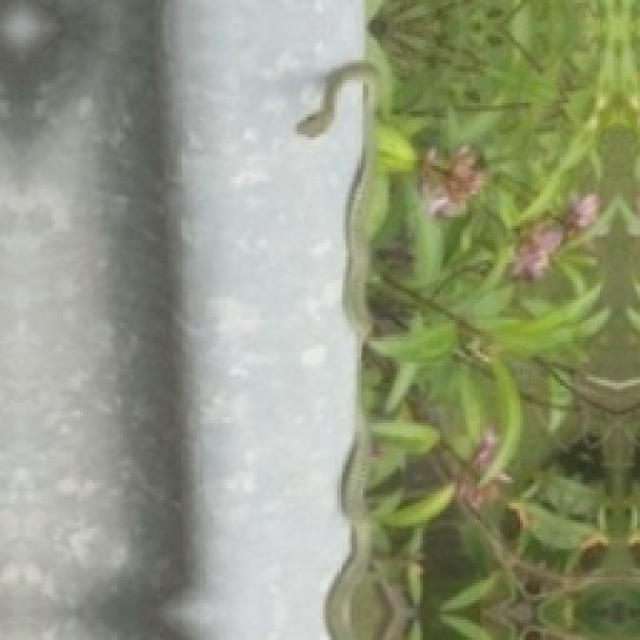paradise tree snake: (297, 0, 637, 637), (297, 60, 451, 637)
